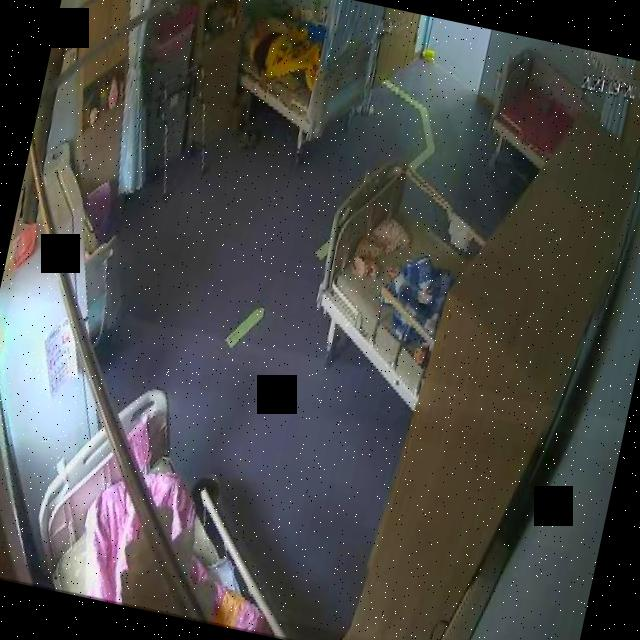bed: (24, 372, 296, 632), (297, 147, 478, 412), (226, 0, 376, 147), (474, 41, 584, 162)
walker: (136, 53, 231, 211)
